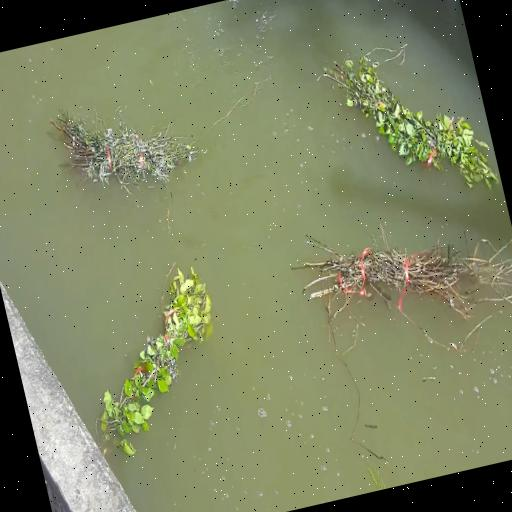twig: (284, 205, 510, 366), (318, 26, 502, 222), (73, 264, 248, 454), (28, 92, 216, 244)
